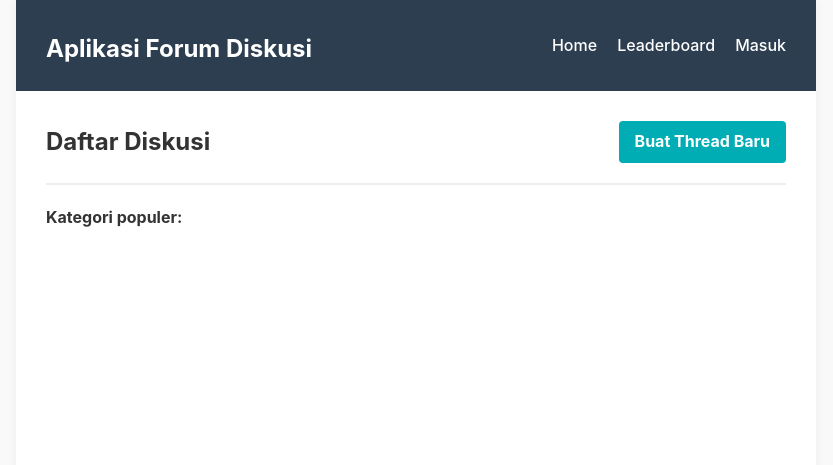
Login spec › should display the login page correctly
Click the link "Masuk".
click(761, 46)  # box [735, 33, 786, 59]
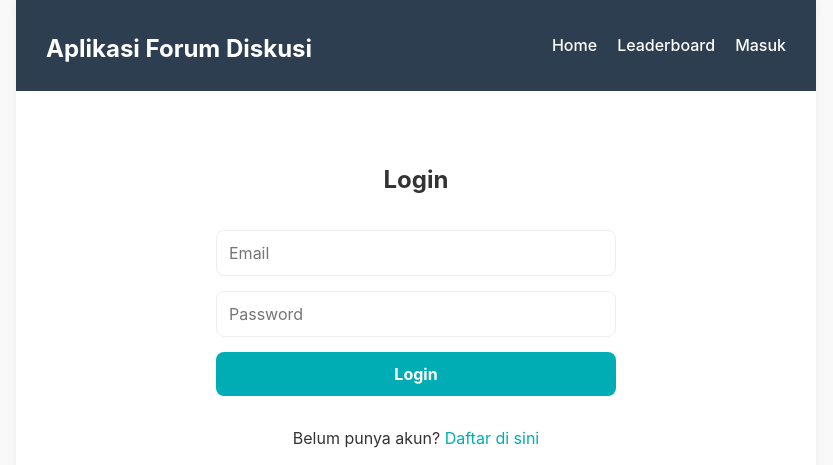
Expected: the field with placeholder "Email" is shown, [216, 230, 616, 276]
Expected: the password field with placeholder "Password" is shown, [216, 291, 616, 337]
Expected: the button "Login" is shown, [216, 352, 616, 396]
